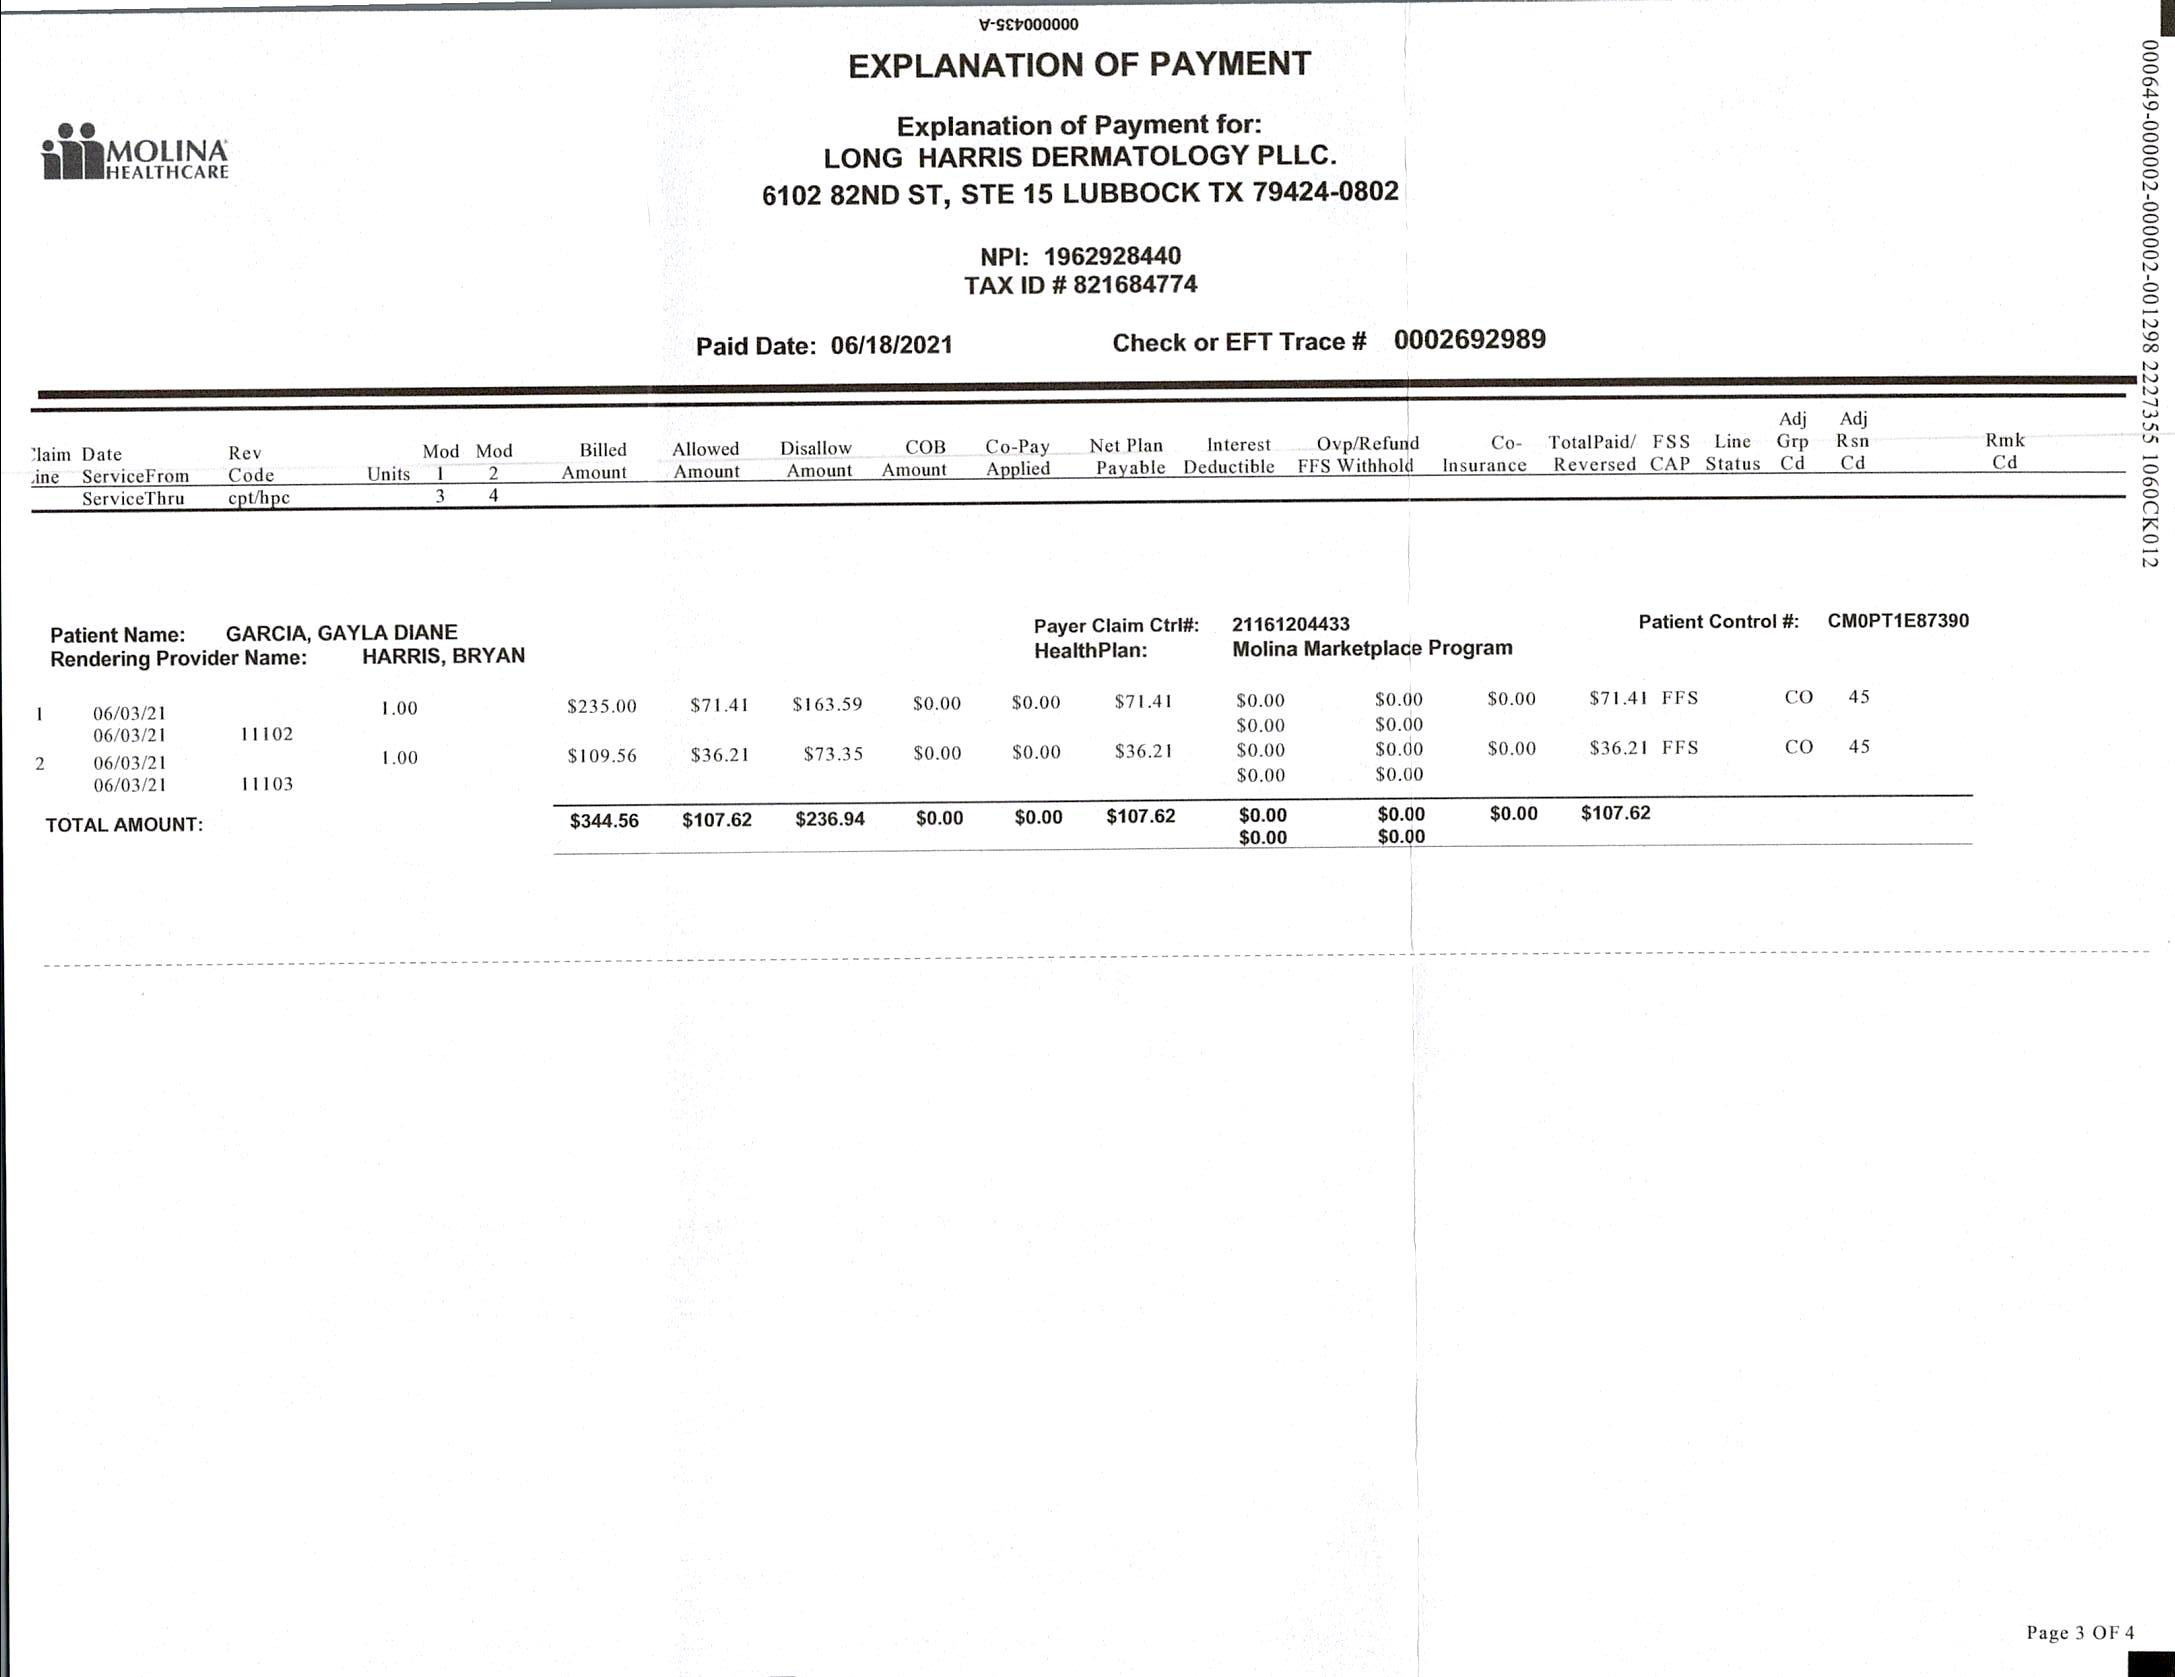data: (1014, 595, 1536, 669), (28, 597, 546, 668), (1638, 590, 1978, 639)
table: (16, 405, 2076, 853)
